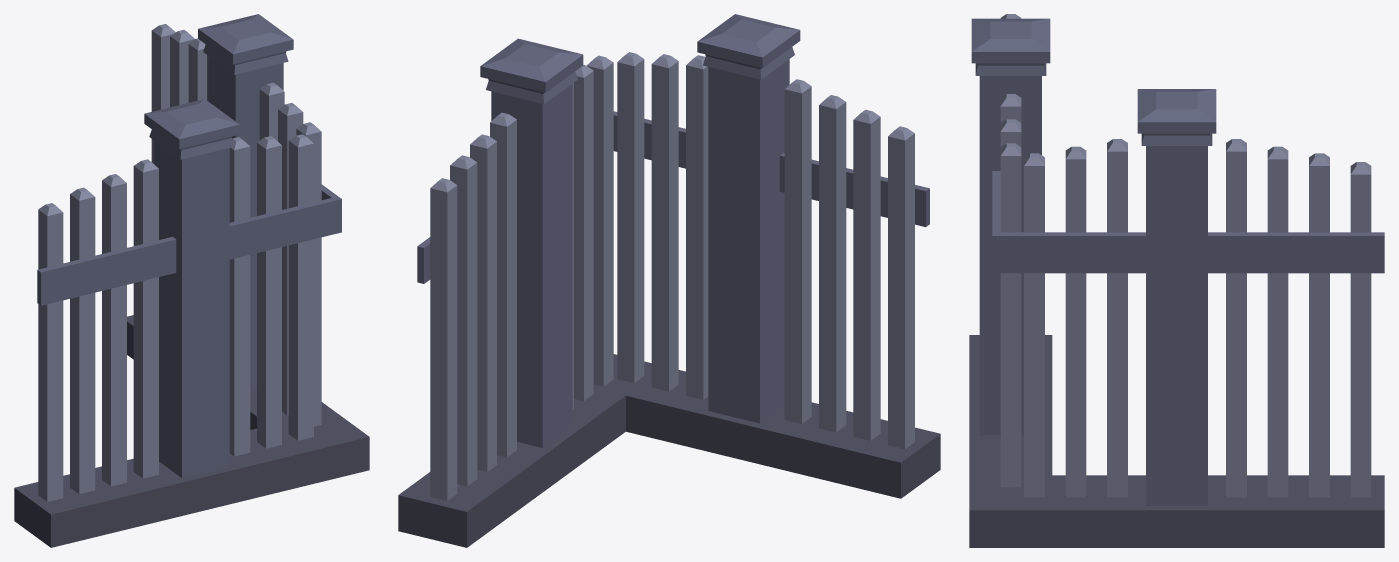
Rendered from Fence_06.fbx.
The picture shows the model from 3 angles, left to right: view 1: azimuth 30°, elevation 25°; view 2: azimuth 150°, elevation 25°; view 3: azimuth 270°, elevation 25°; orthographic projection. The views are drawn at different scales.
Parts seen in each view (by area): view 1: Fence_06; view 2: Fence_06; view 3: Fence_06.
Boxes of the visible parts, <box> form: Fence_06: <box>14,14,369,547</box>; Fence_06: <box>398,14,940,547</box>; Fence_06: <box>969,14,1384,547</box>.
Size of the model in its own units: 200 by 229 by 200.
